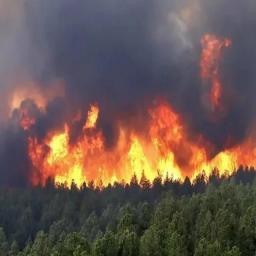Heavy smoke: (0, 0, 255, 146)
Medium fire: (0, 86, 255, 186)
